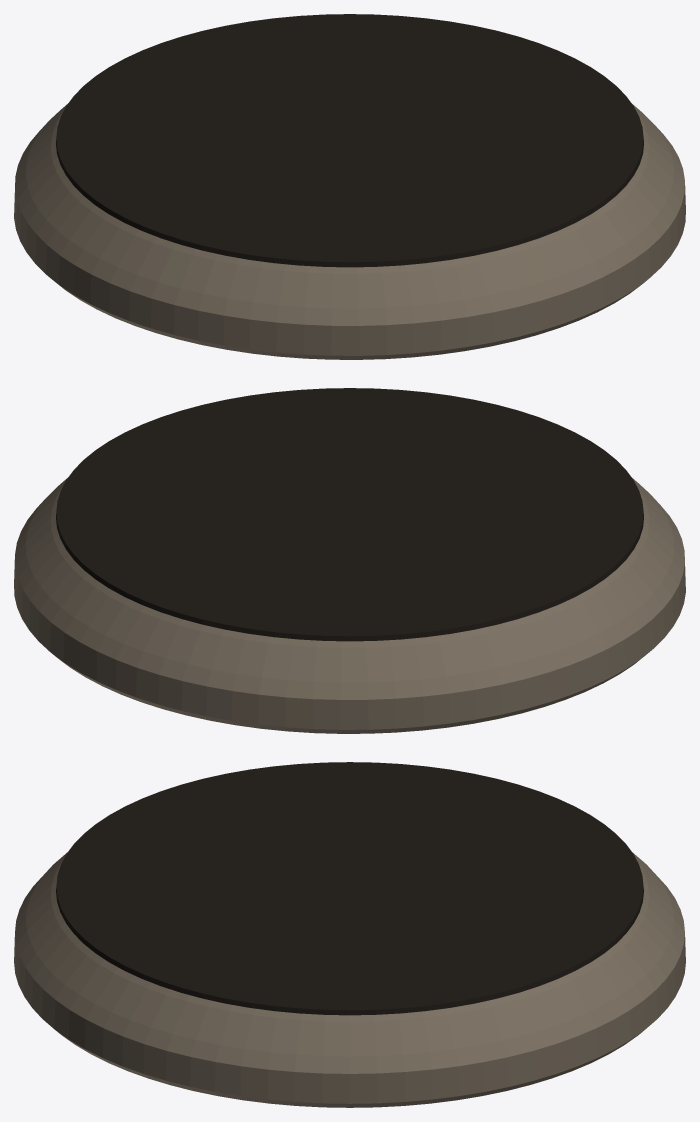
The model's file is columnShoe.glb.
3 renders of one model, top to bottom at view 1: azimuth 30°, elevation 25°; view 2: azimuth 150°, elevation 25°; view 3: azimuth 270°, elevation 25°, orthographic.
Parts seen in each view (by area): view 1: 실내 조명 베이크용 columnShoe; view 2: 실내 조명 베이크용 columnShoe; view 3: 실내 조명 베이크용 columnShoe.
Boxes of the visible parts, x1,y1,x2,y2 form: 실내 조명 베이크용 columnShoe: (14,14,685,359); 실내 조명 베이크용 columnShoe: (14,388,685,733); 실내 조명 베이크용 columnShoe: (14,762,685,1107).
Bounding box in the file's own units: 1.24 × 0.176 × 1.24.
